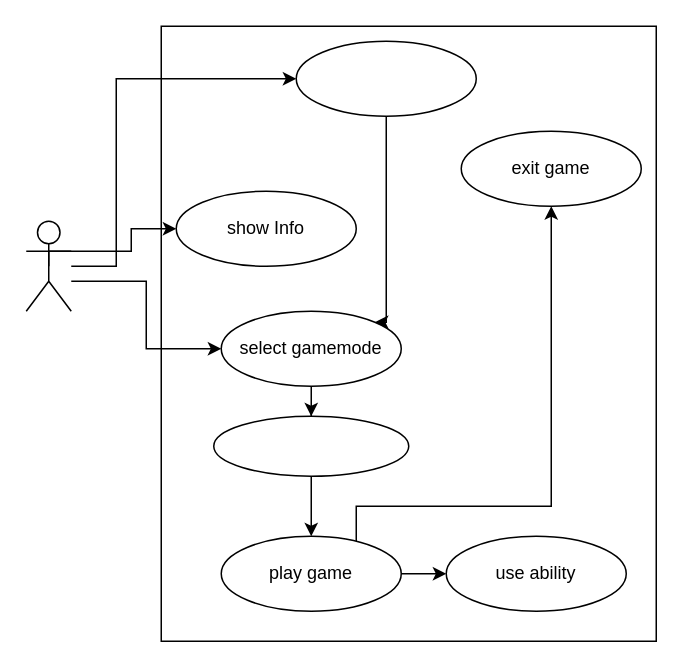
Image size: 683x668. Some labels were removed from this diagram. Each missing label, with the centre of its shape:
Actor: point (48, 265)
restart game: point (385, 78)
select gamedifficulty: point (310, 445)
